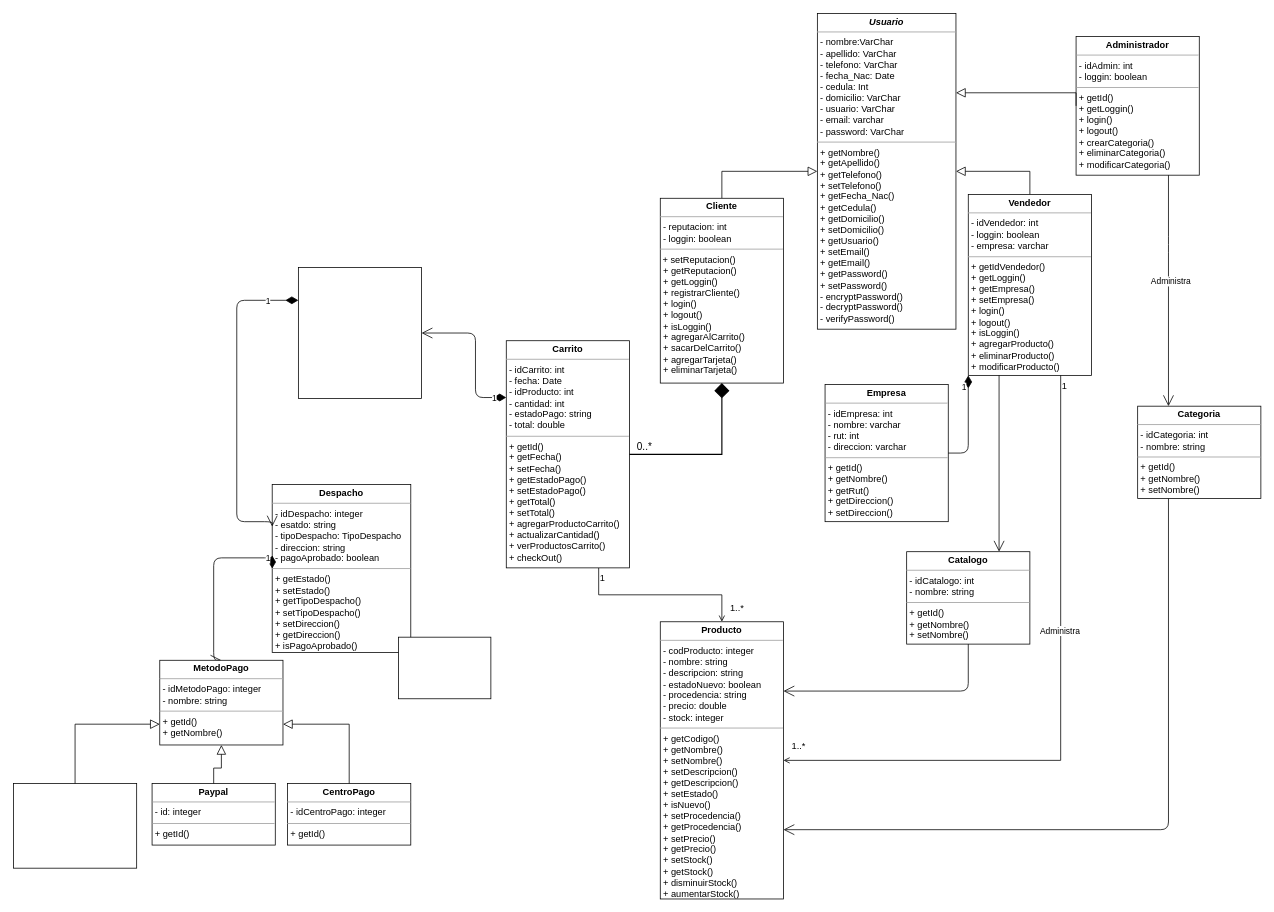
Some shapes in this 1274 by 912 pixel diagram are drawn without their labels. The shapes that lost their labels are listed below. From the top down, each one's centre as x and y in pixels, then its label:
pixel 360 332: Compra + field: Type + method(): Type
pixel 444 667: <<enumeration>> TipoDespacho Domicilio PickUpCenter
pixel 75 825: Tarjeta - idTarjeta: integer - tipo: string + getId() + getTipo()
